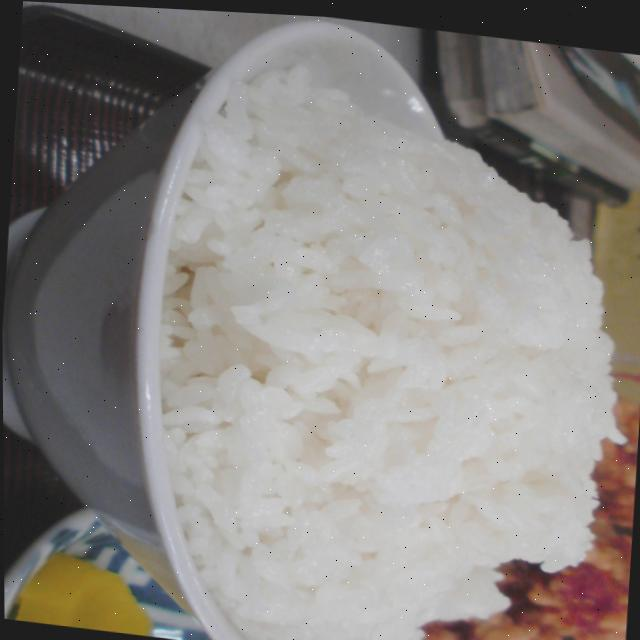米饭主食: (114, 54, 635, 640)
